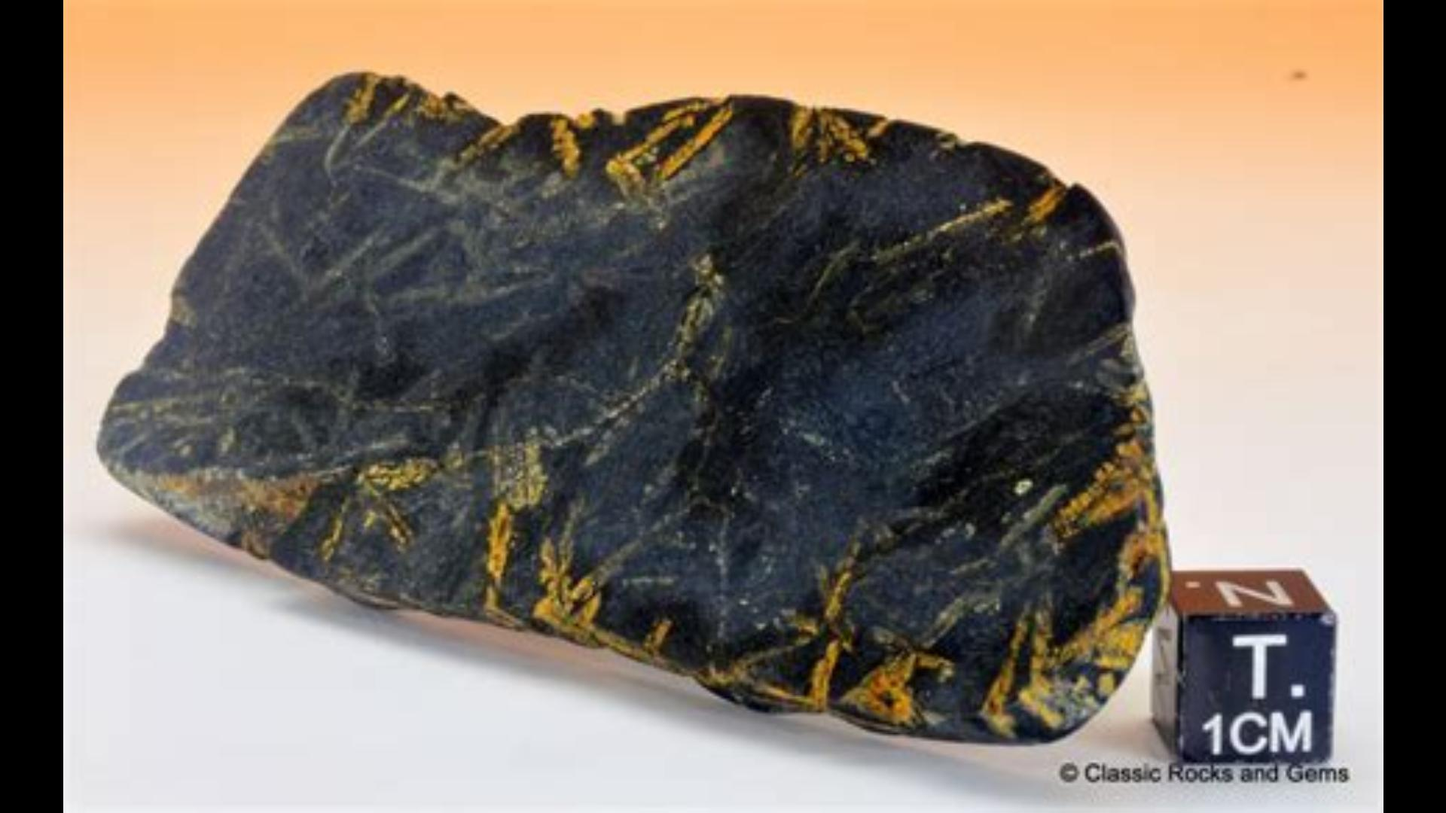rock: (102, 78, 1166, 727)
